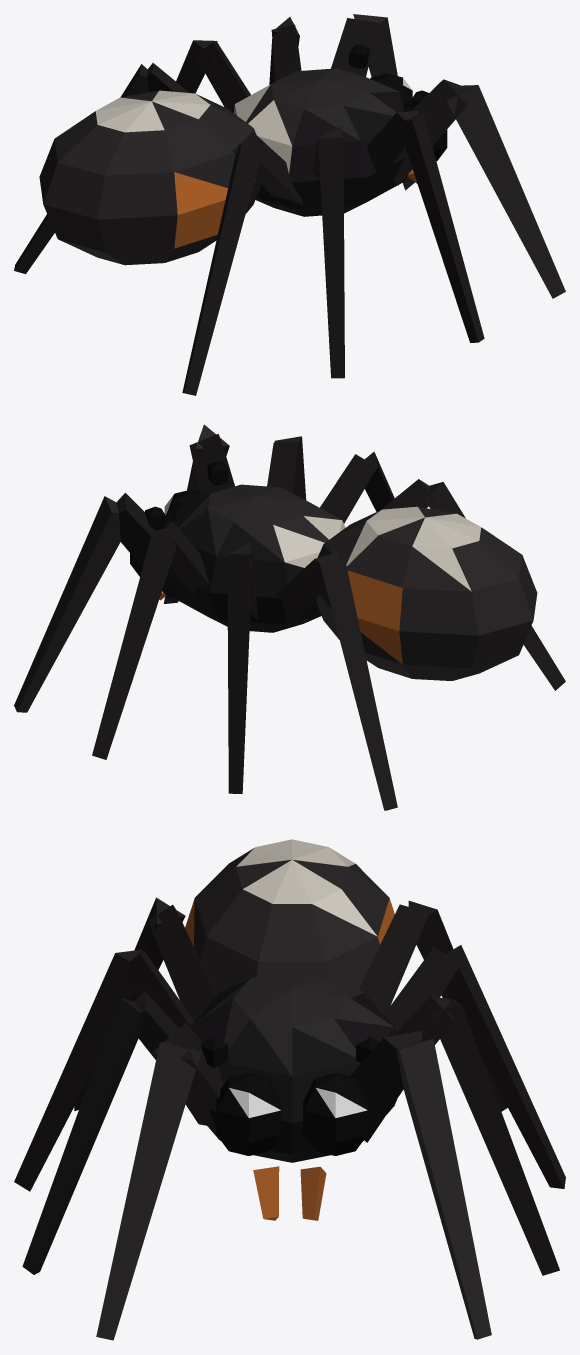
Rendered from creatures-jumping-spider.glb.
3 views of the same model, one above another, from view 1: azimuth 30°, elevation 25°; view 2: azimuth 150°, elevation 25°; view 3: azimuth 270°, elevation 25° (orthographic). The views are drawn at different scales.
Size of the model in its own units: 8.23 by 3.92 by 7.
